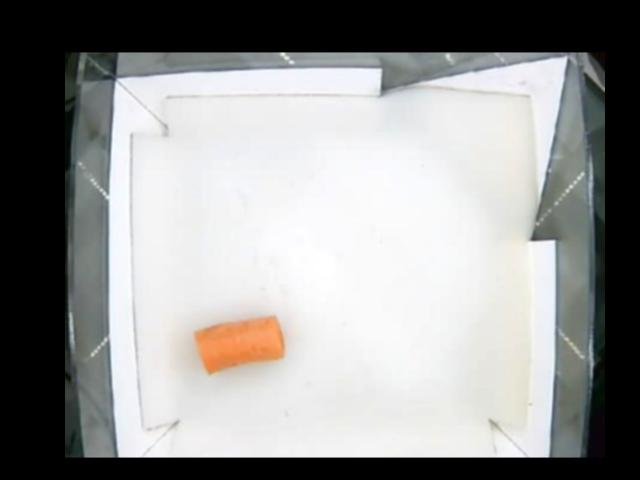Carrot: (189, 314, 284, 376)
